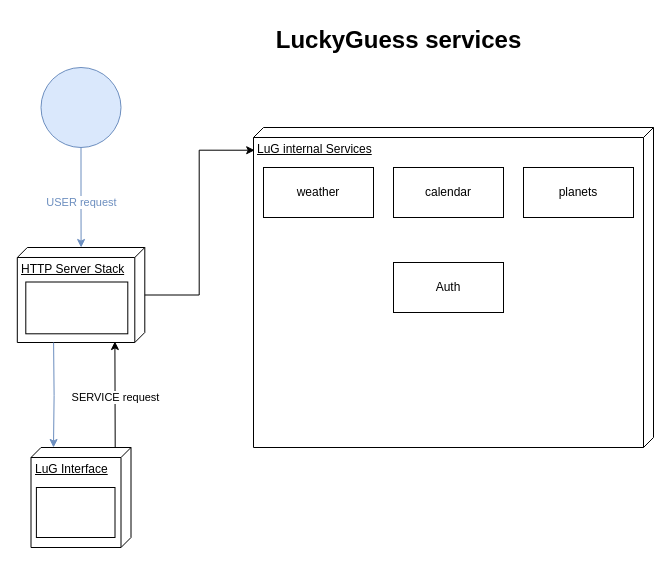
Image size: 672x565. Some labels were removed from this diagram. The centre of each missing label's shape, as x and y in pixels:
"HTTP server" belongs at point (76, 307).
"lug-backend" belongs at point (75, 512).
"User" belongs at point (80, 107).
